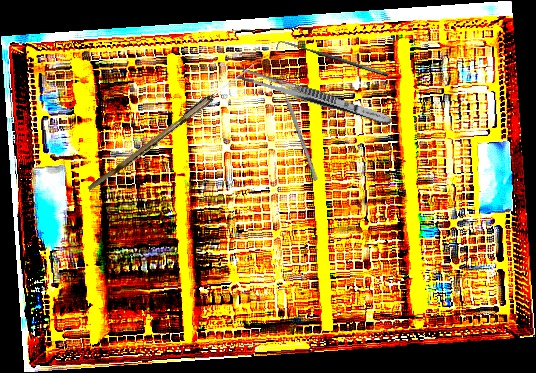Dressing Forceps: (234, 66, 395, 128)
Hook Surgical: (275, 36, 390, 86)
Pusher: (276, 75, 319, 181)
Surgical Spoon: (87, 58, 258, 196)
